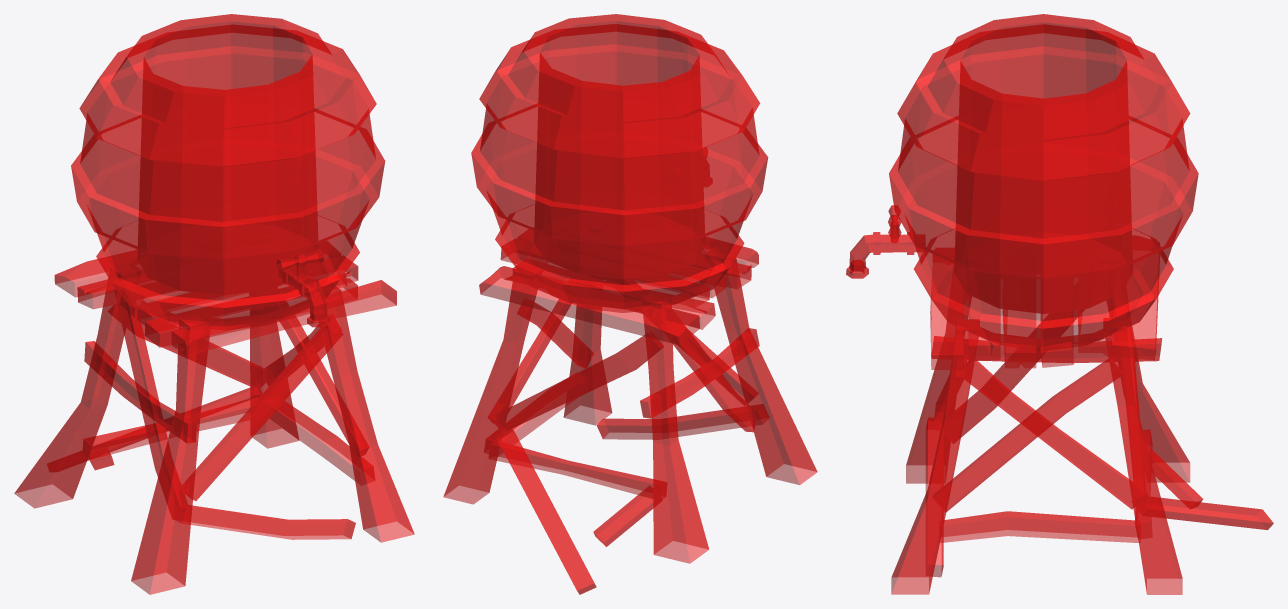
The model's file is Water_storage_impossible_to_place.fbx.
The picture shows the model from 3 angles, left to right: view 1: azimuth 30°, elevation 25°; view 2: azimuth 150°, elevation 25°; view 3: azimuth 270°, elevation 25°; orthographic projection. The views are drawn at different scales.
Visible parts, largest first — view 1: Cube.013; view 2: Cube.013; view 3: Cube.013.
Boxes of the visible parts, x1=… form: Cube.013: x1=14, y1=14, x2=414, y2=594; Cube.013: x1=443, y1=14, x2=817, y2=594; Cube.013: x1=846, y1=14, x2=1273, y2=594.
Bounding box in the file's own units: 3.95 × 4.93 × 6.4.
